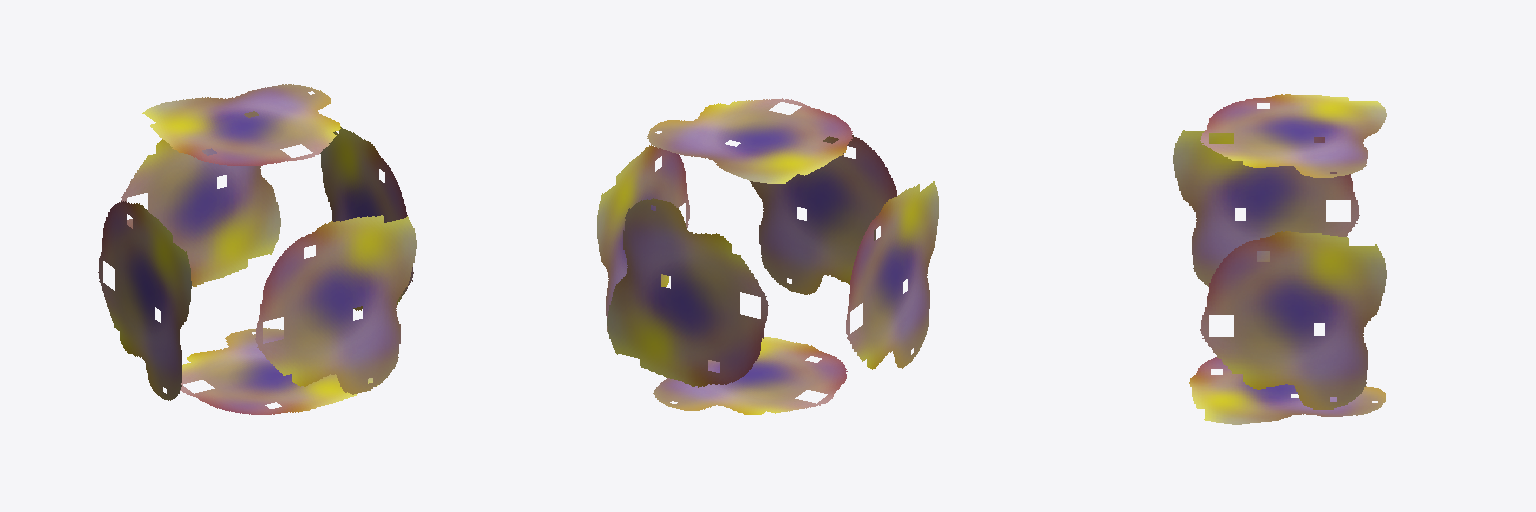
3 views of the same model, side by side, from view 1: azimuth 30°, elevation 25°; view 2: azimuth 150°, elevation 25°; view 3: azimuth 270°, elevation 25° (orthographic).
Parts seen in each view (by area): view 1: Cube; view 2: Cube; view 3: Cube.
Part boxes in pixels (left/top/right/bottom): Cube: left=98, top=84, right=416, bottom=414; Cube: left=597, top=98, right=938, bottom=414; Cube: left=1173, top=94, right=1386, bottom=424.
Bounding box in the file's own units: 2 × 2 × 2.
Materials: 1 (1 with a texture image).